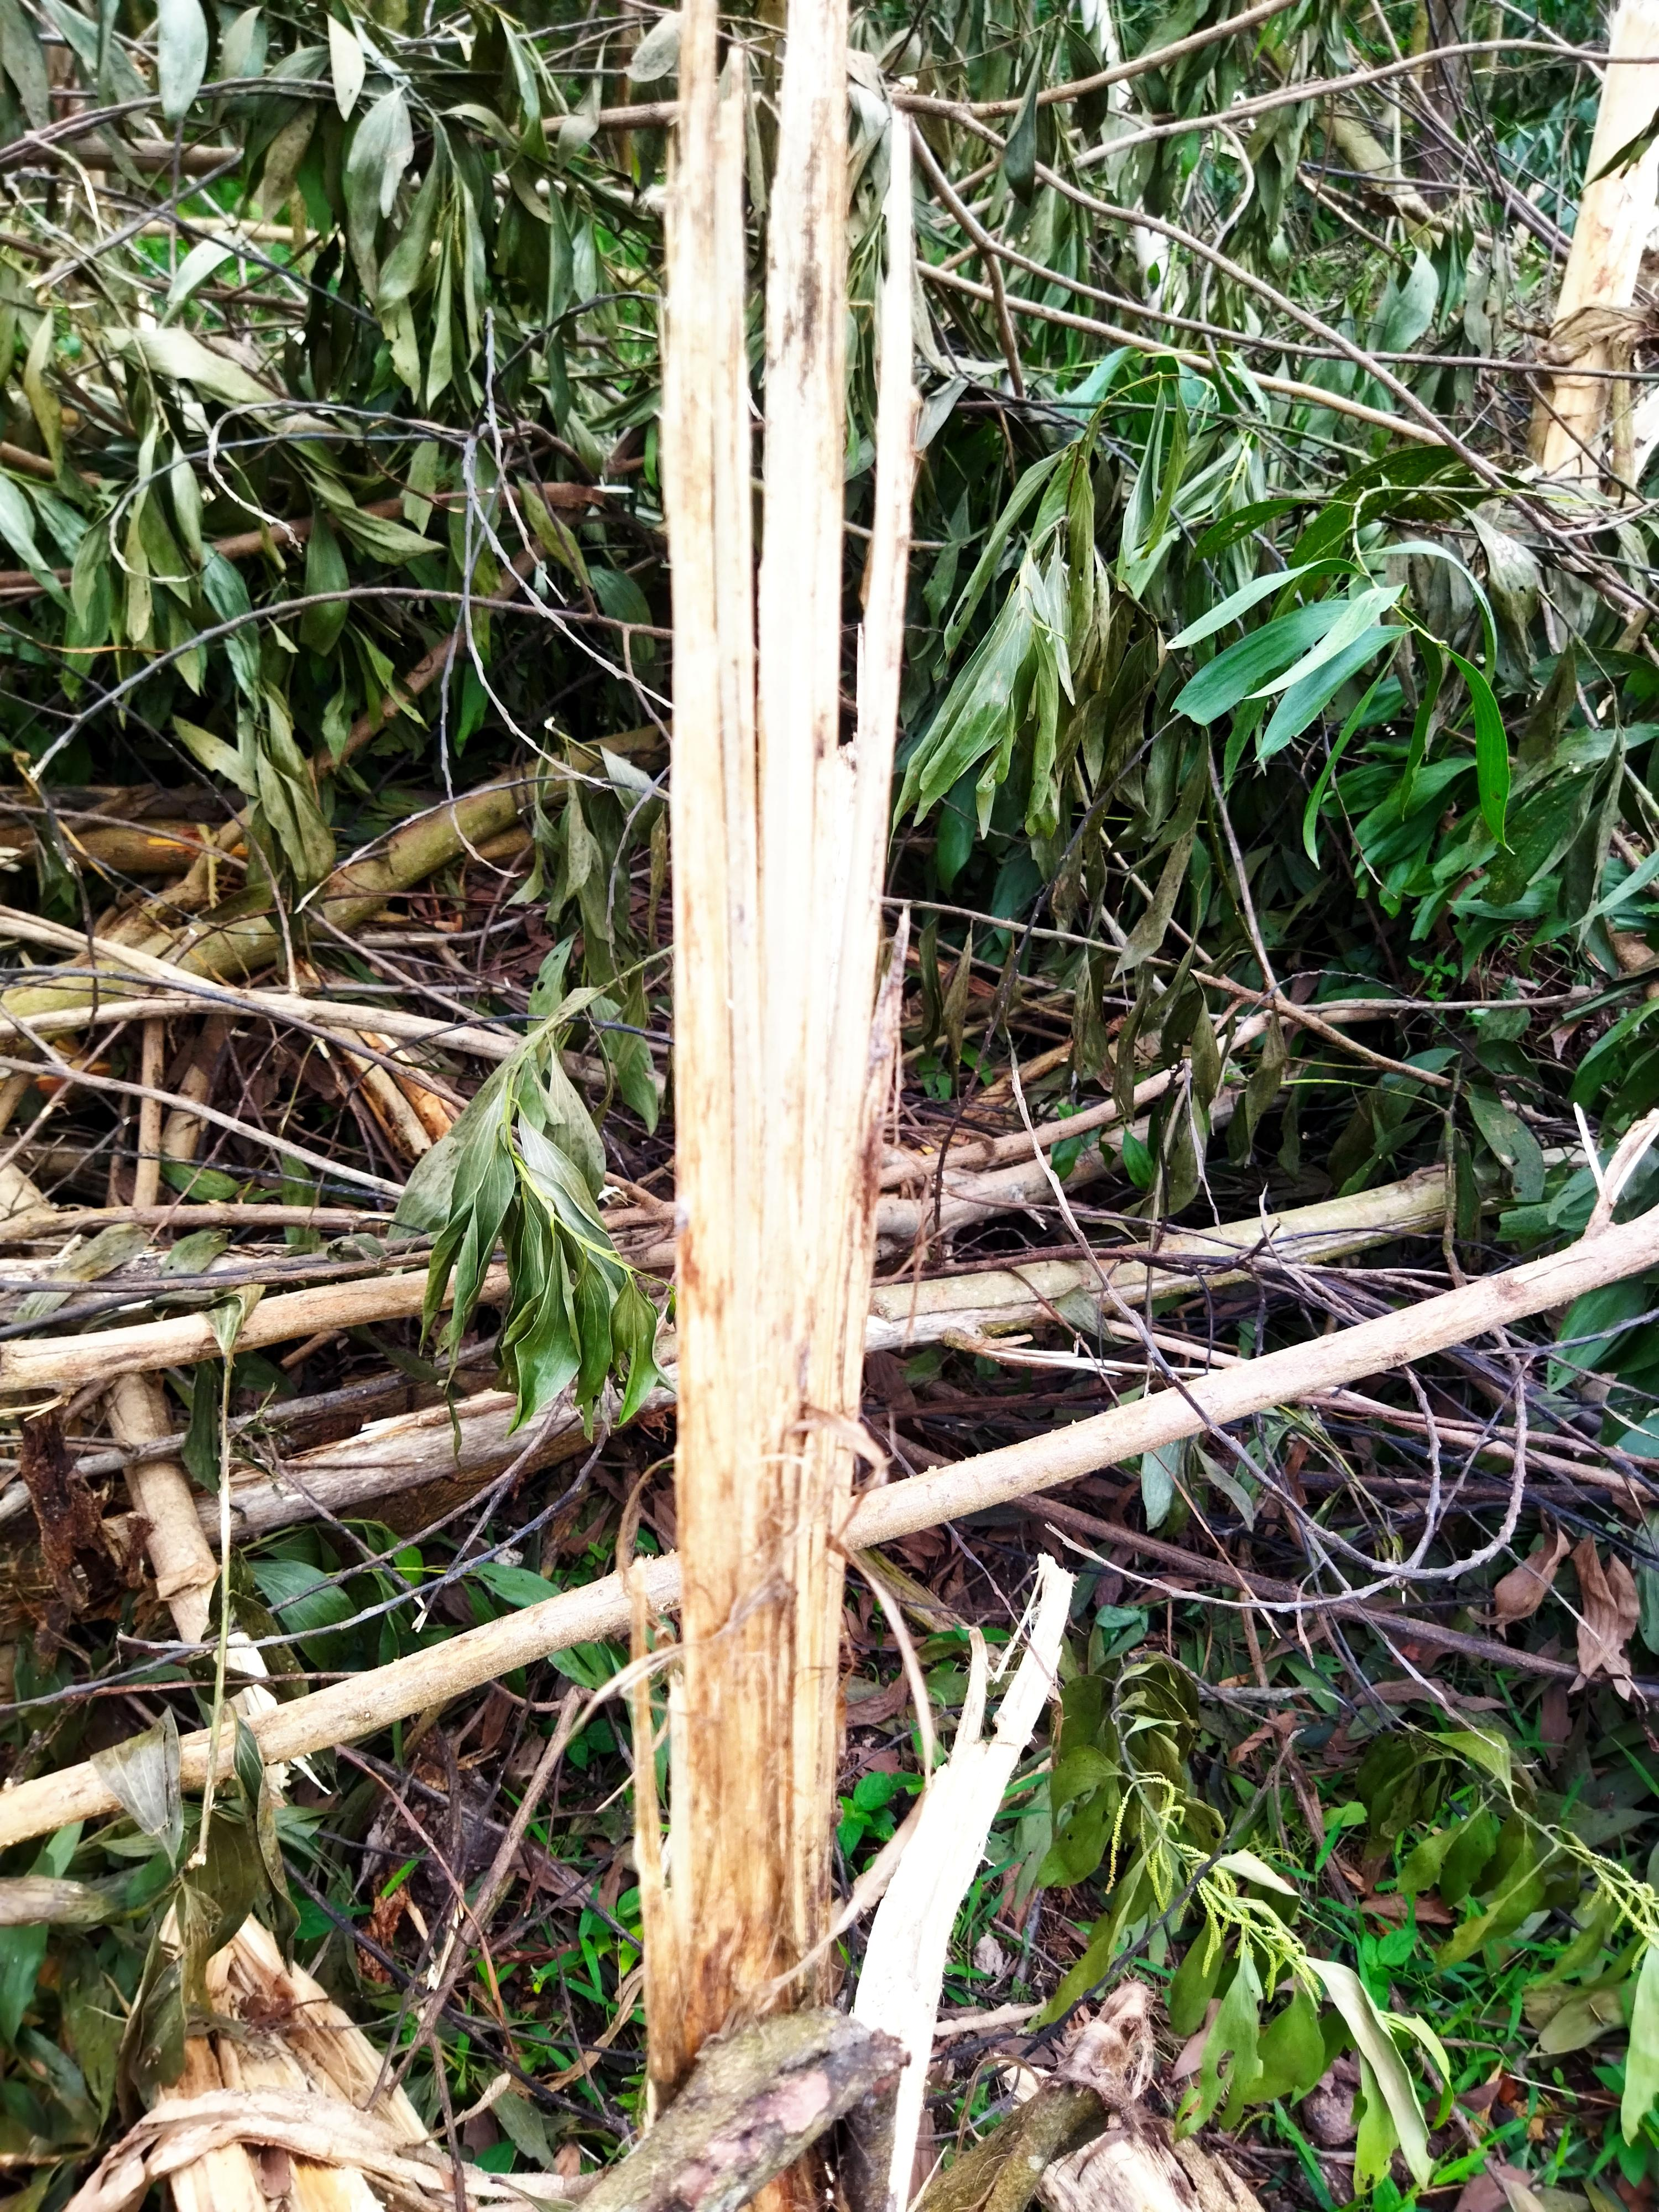Mammals Attack: (664, 51, 864, 2062), (847, 1588, 1094, 2177)
